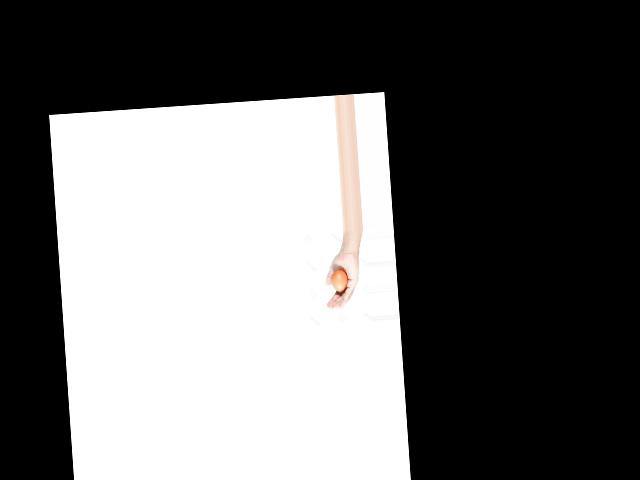egg: (330, 269, 348, 291)
